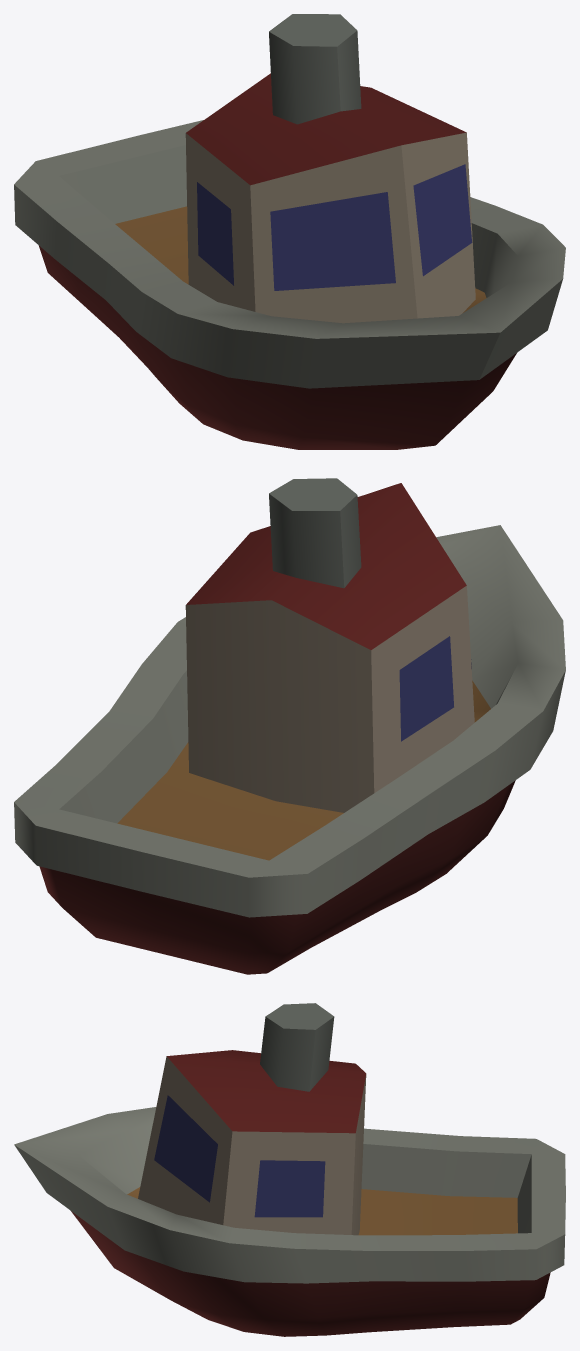
File: MSH_Boat.glb
3 renders of one model, top to bottom at view 1: azimuth 30°, elevation 25°; view 2: azimuth 150°, elevation 25°; view 3: azimuth 270°, elevation 25°, orthographic. The views are drawn at different scales.
Parts seen in each view (by area): view 1: MSH_Boat; view 2: MSH_Boat; view 3: MSH_Boat.
Part boxes in pixels (<box>): MSH_Boat: <box>14,14,565,449</box>; MSH_Boat: <box>14,478,565,974</box>; MSH_Boat: <box>14,1003,565,1336</box>.
Size of the model in its own units: 2.57 by 2.49 by 4.37.
